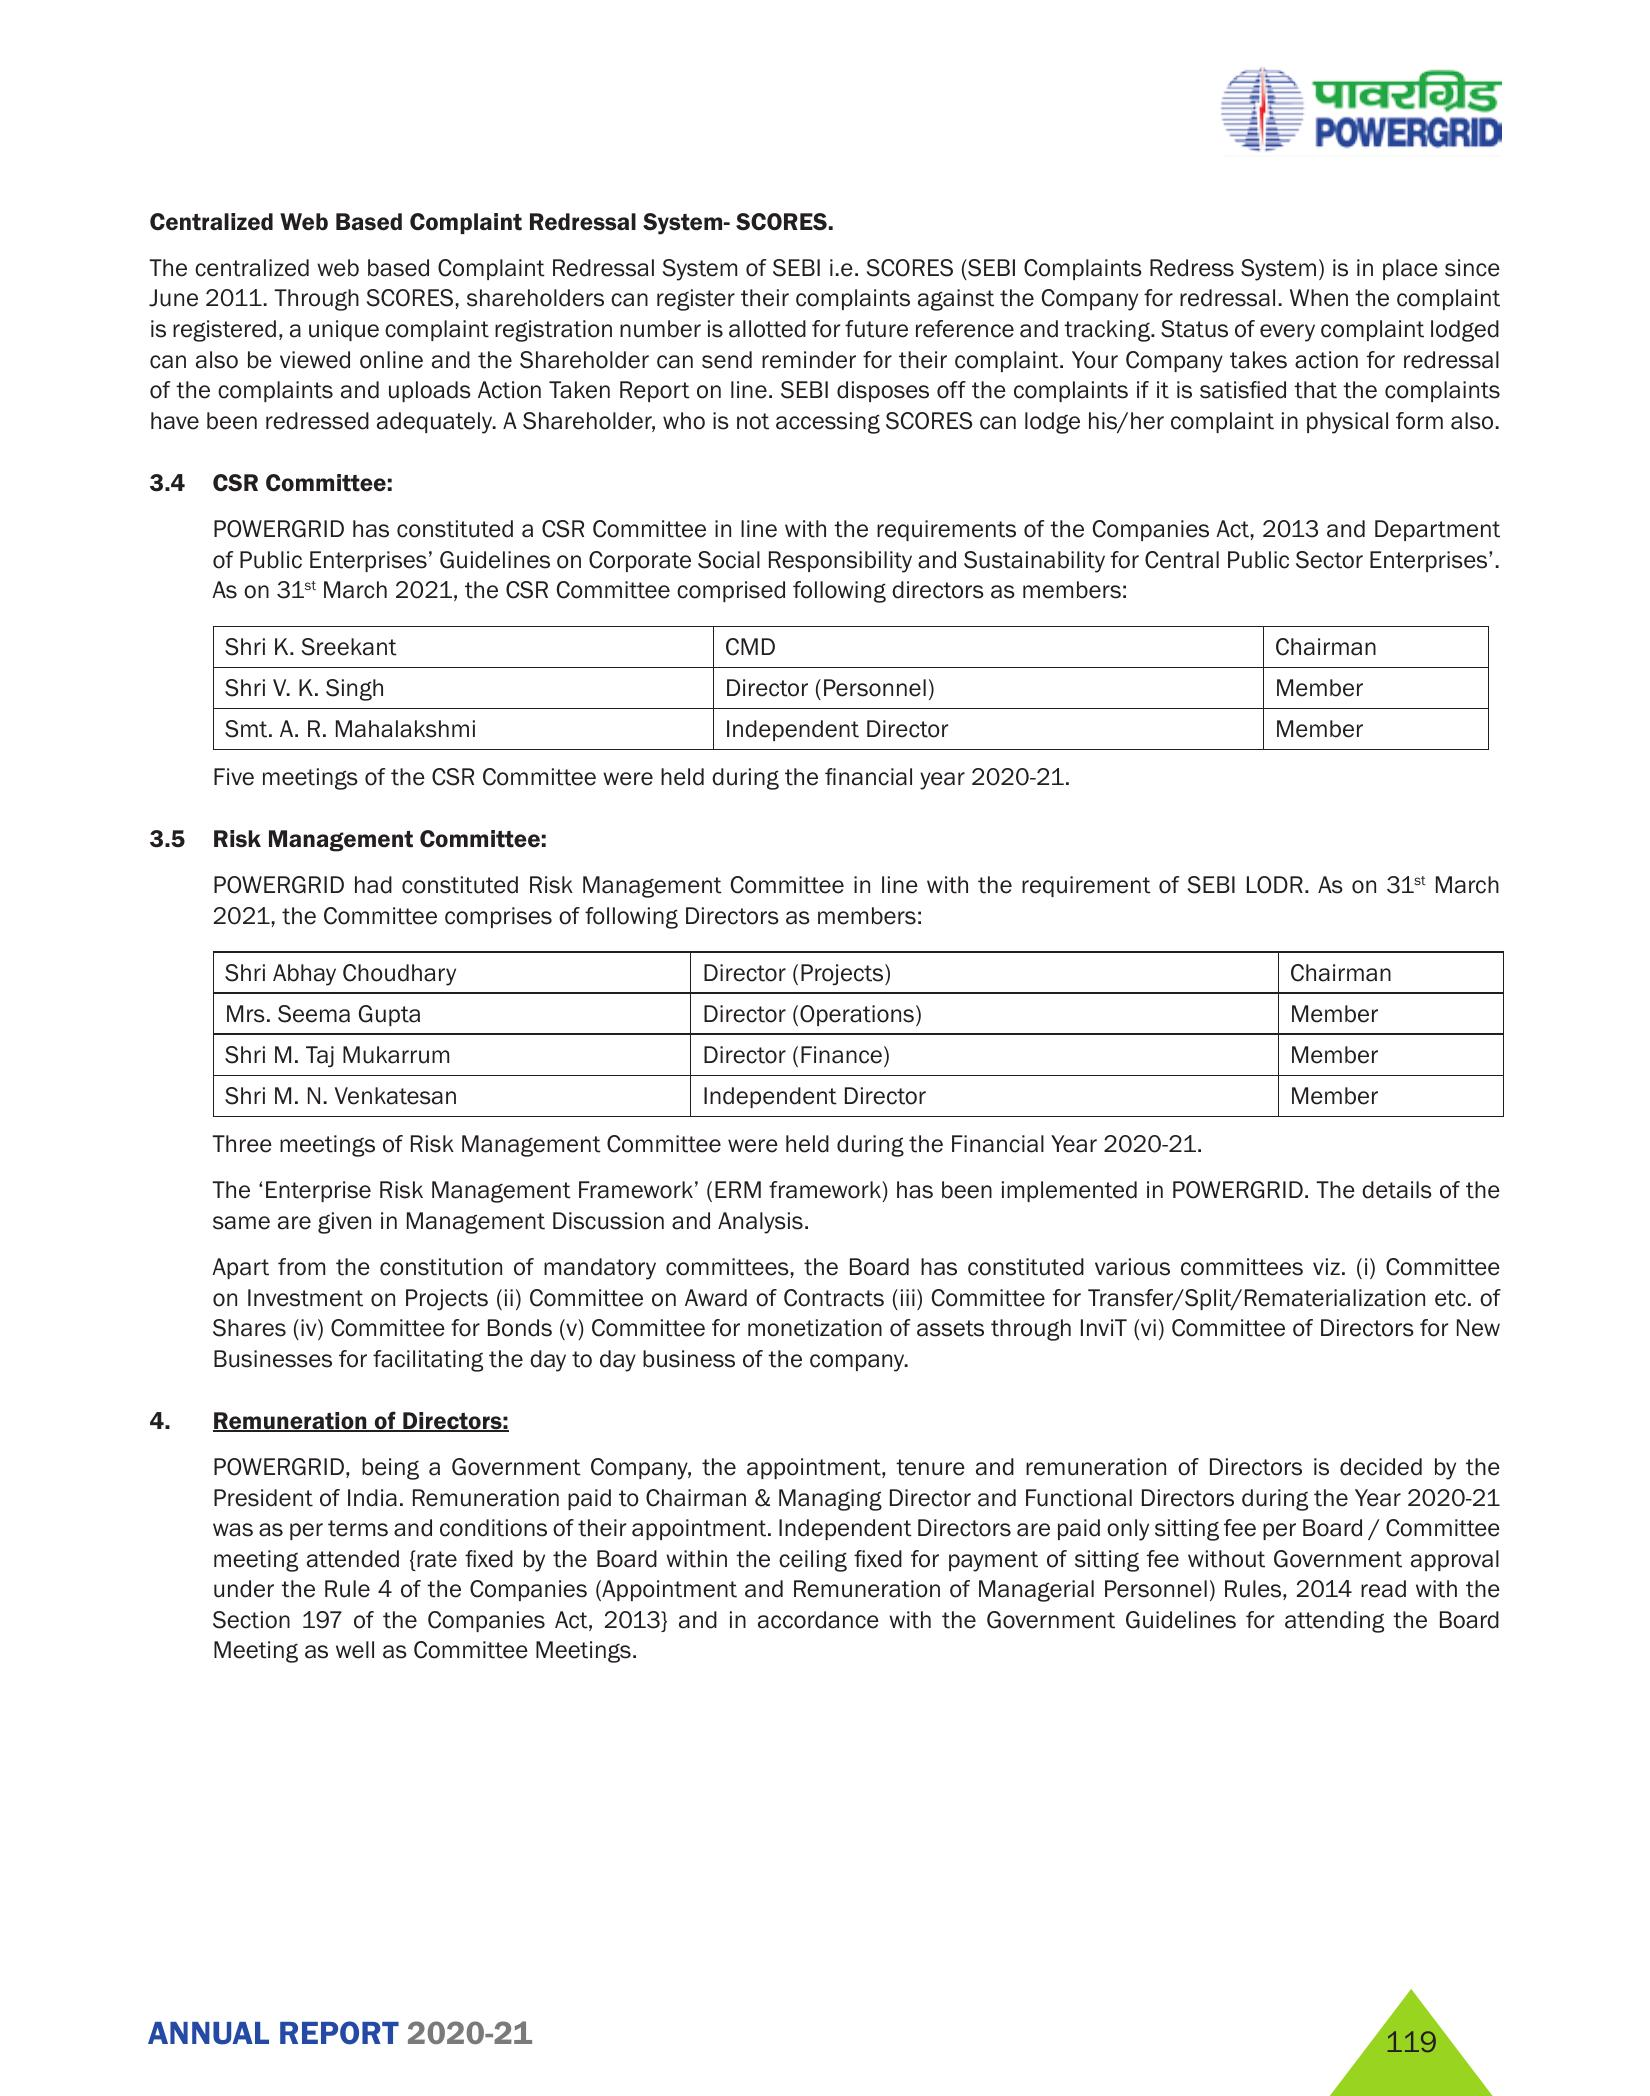Footer: (0, 1965, 1650, 2096)
Header: (0, 0, 1650, 168)
Table: (122, 953, 1528, 1128), (126, 606, 1539, 779)
